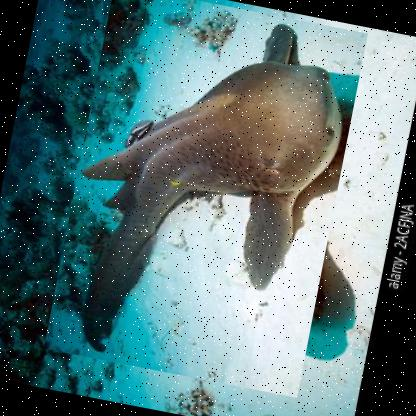zebra_shark: (42, 0, 368, 398)
